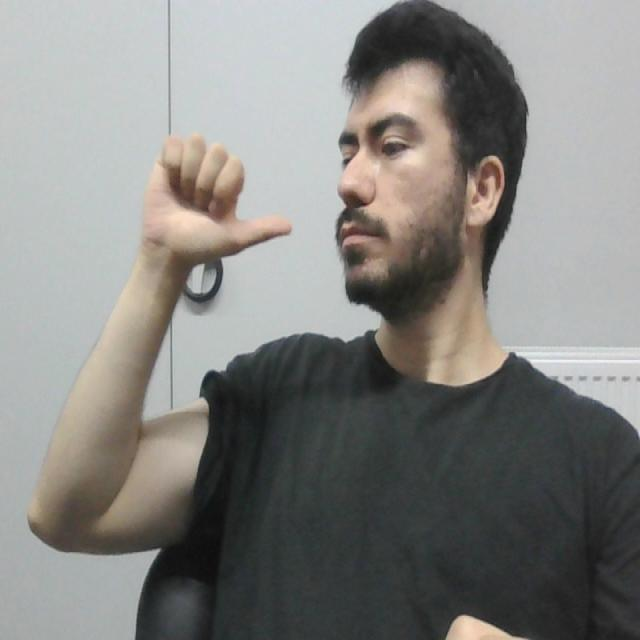icmek: (138, 122, 364, 269)
